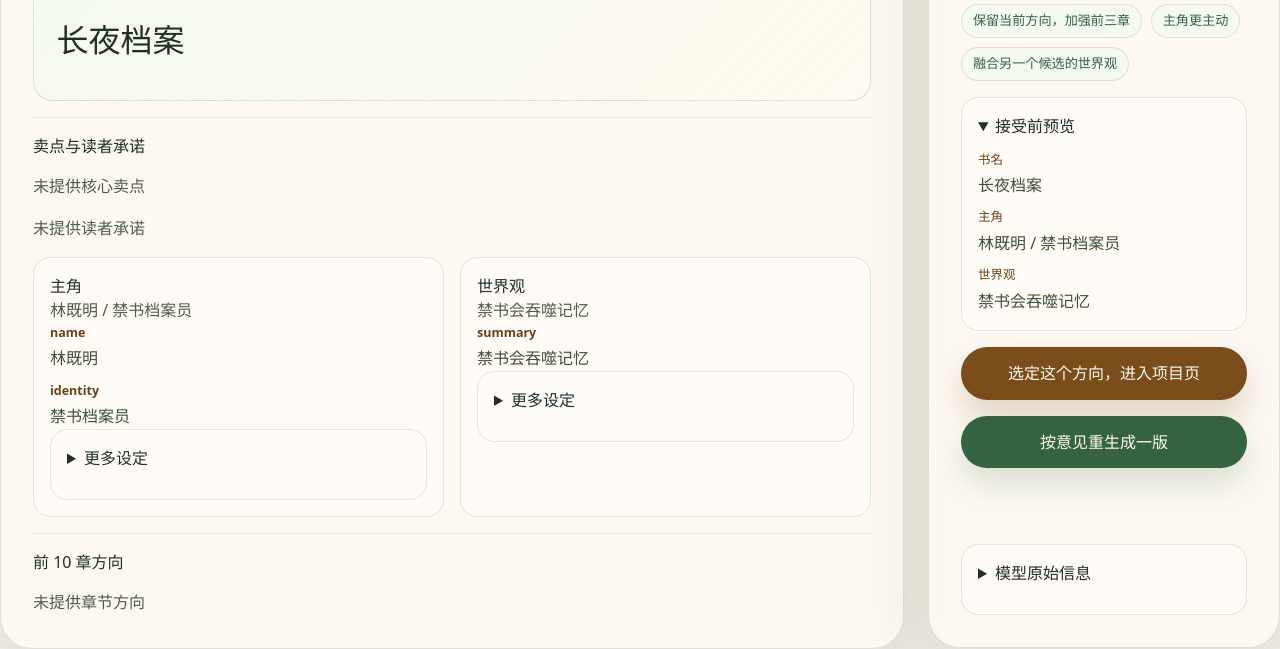
Test: renders structured entity extras and raw content disclosure
(page scrolled)
Expected: the text "林既明" is shown, [50,348,98,370]
Expected: the text "禁书档案员" is shown, [50,405,130,427]
Click the heading "模型原始信息".
click(1043, 574)  # box [995,563,1091,585]
(page scrolled)
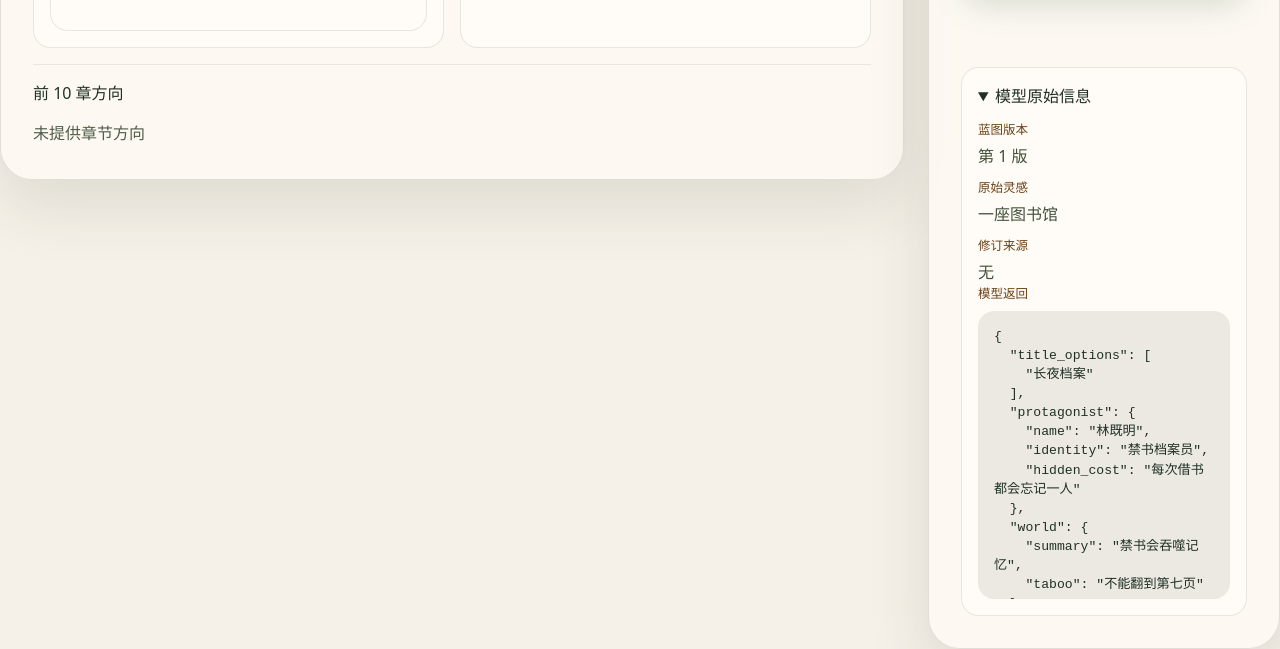
Expected: the text "模型返回" is shown, [978,285,1028,302]
Expected: the text "title_options" is shown, [994,329,1209,630]
